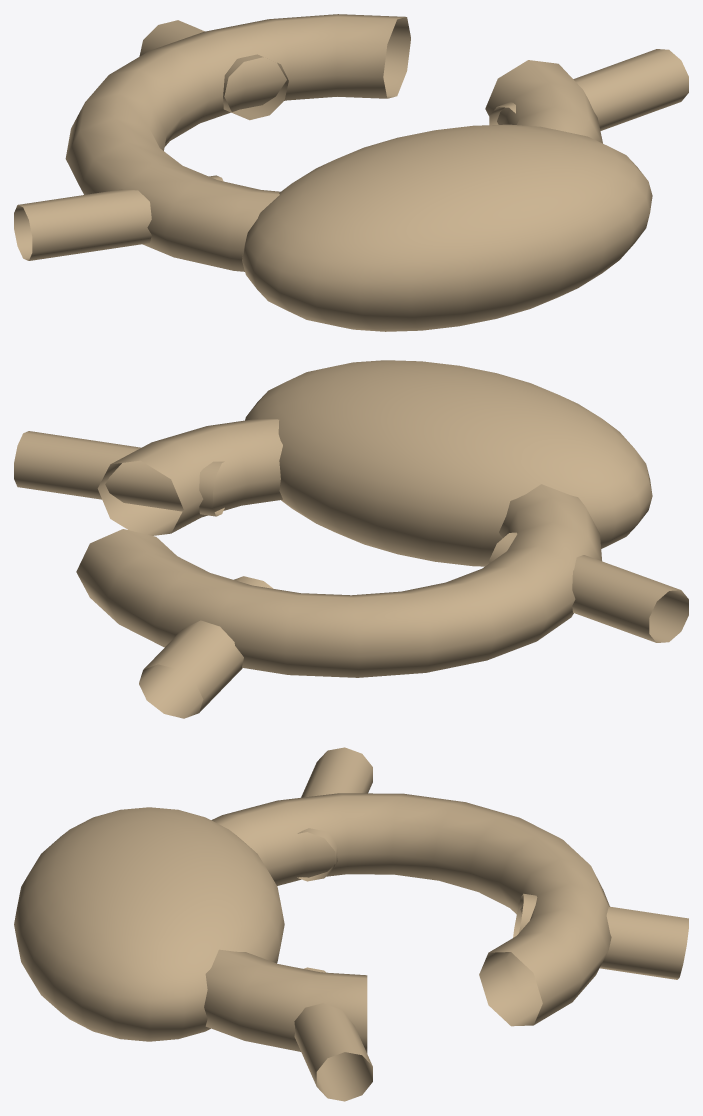
The picture shows the model from 3 angles, top to bottom: view 1: azimuth 30°, elevation 25°; view 2: azimuth 150°, elevation 25°; view 3: azimuth 270°, elevation 25°; orthographic projection. The views are drawn at different scales.
Parts seen in each view (by area): view 1: t10:centrum, t10:neural-arch, t10:transverse--1, t10:transverse-1, t10:spinous-process; view 2: t10:neural-arch, t10:centrum, t10:transverse-1, t10:transverse--1, t10:spinous-process; view 3: t10:neural-arch, t10:centrum, t10:spinous-process, t10:transverse-1, t10:transverse--1.
Boxes of the visible parts, x1=… form: t10:centrum: x1=242, y1=124, x2=652, y2=331; t10:neural-arch: x1=65, y1=14, x2=602, y2=271; t10:transverse--1: x1=14, y1=175, x2=223, y2=260; t10:transverse-1: x1=489, y1=49, x2=688, y2=130; t10:spinous-process: x1=139, y1=20, x2=288, y2=120; t10:neural-arch: x1=76, y1=418, x2=601, y2=677; t10:centrum: x1=245, y1=360, x2=652, y2=566; t10:transverse-1: x1=14, y1=431, x2=224, y2=516; t10:transverse--1: x1=489, y1=532, x2=688, y2=642; t10:spinous-process: x1=139, y1=576, x2=273, y2=718; t10:neural-arch: x1=204, y1=793, x2=611, y2=1053; t10:centrum: x1=14, y1=807, x2=284, y2=1041; t10:spinous-process: x1=513, y1=893, x2=688, y2=979; t10:transverse-1: x1=294, y1=967, x2=372, y2=1101; t10:transverse--1: x1=297, y1=747, x2=372, y2=881.
Size of the model in its own units: 0.3648 by 0.0816 by 0.336.
